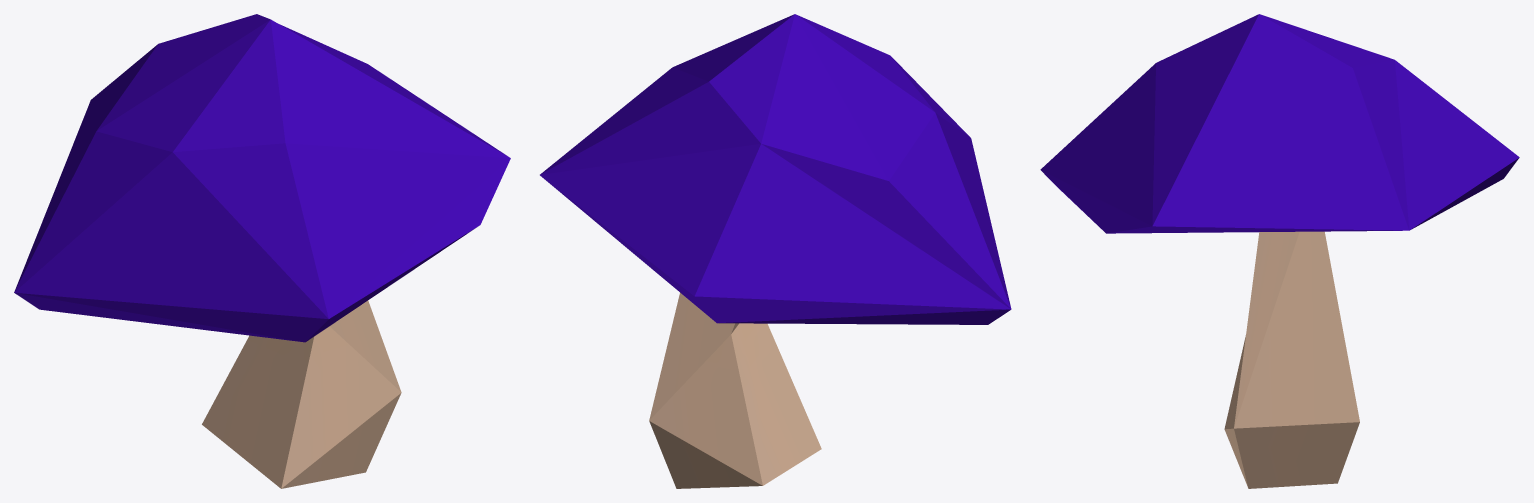
The model's file is Mushroom2.fbx.
The picture shows the model from 3 angles, left to right: view 1: azimuth 30°, elevation 25°; view 2: azimuth 150°, elevation 25°; view 3: azimuth 270°, elevation 25°; orthographic projection. The views are drawn at different scales.
Parts seen in each view (by area): view 1: Icosphere; view 2: Icosphere; view 3: Icosphere.
Boxes of the visible parts, x1,y1,x2,y2 form: Icosphere: (14,14,510,488); Icosphere: (540,14,1011,488); Icosphere: (1040,14,1519,488).
Bounding box in the file's own units: 1.83 × 1.95 × 1.95.
